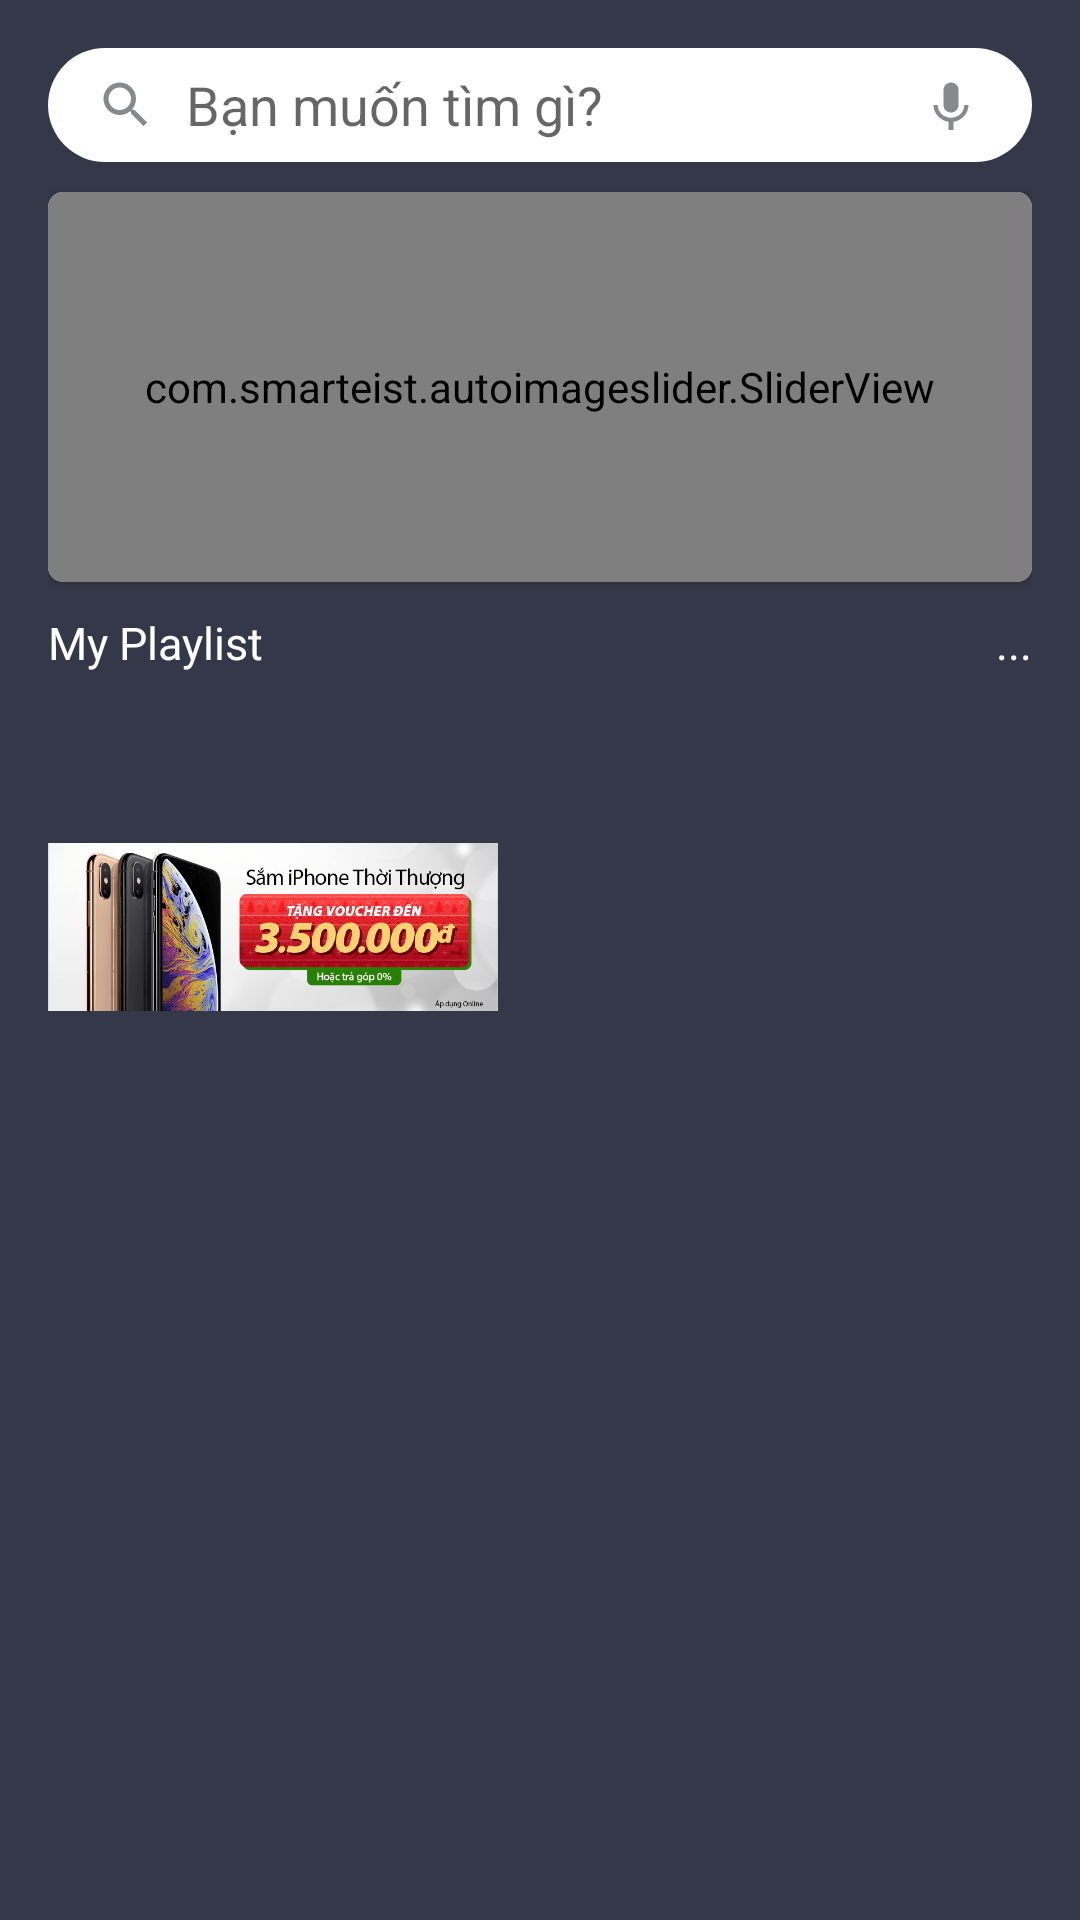

Icon bounding boxes for this 1080*1920 phone screenshot, format box(x1, y1, x2, y2):
keyboard voice: box(933, 82, 969, 130)
search: box(103, 82, 147, 126)
